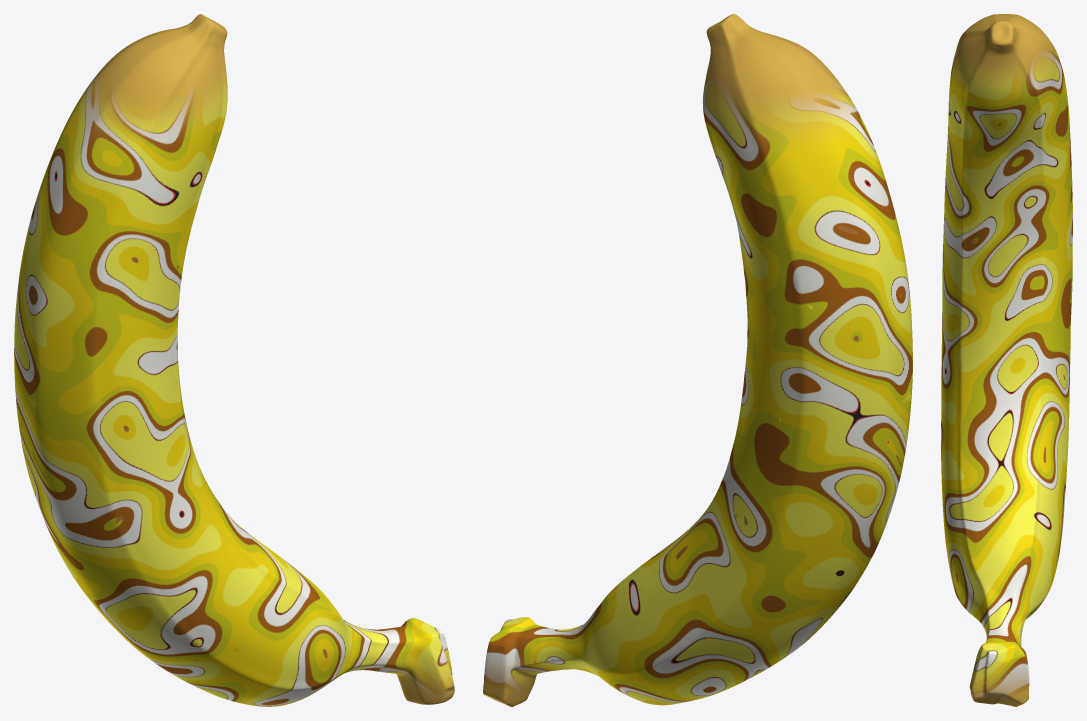
File: banana2.glb
3 renders of one model, left to right at view 1: azimuth 30°, elevation 25°; view 2: azimuth 150°, elevation 25°; view 3: azimuth 270°, elevation 25°, orthographic. The views are drawn at different scales.
Parts seen in each view (by area): view 1: banana2_Body0; view 2: banana2_Body0; view 3: banana2_Body0.
Part boxes in pixels (x1,y1,x2,y2): banana2_Body0: (14,14,454,706); banana2_Body0: (483,14,912,706); banana2_Body0: (941,14,1072,706).
Size of the model in its own units: 1.06 by 1.8 by 0.3598.
Materials: 1 (1 with a texture image).
